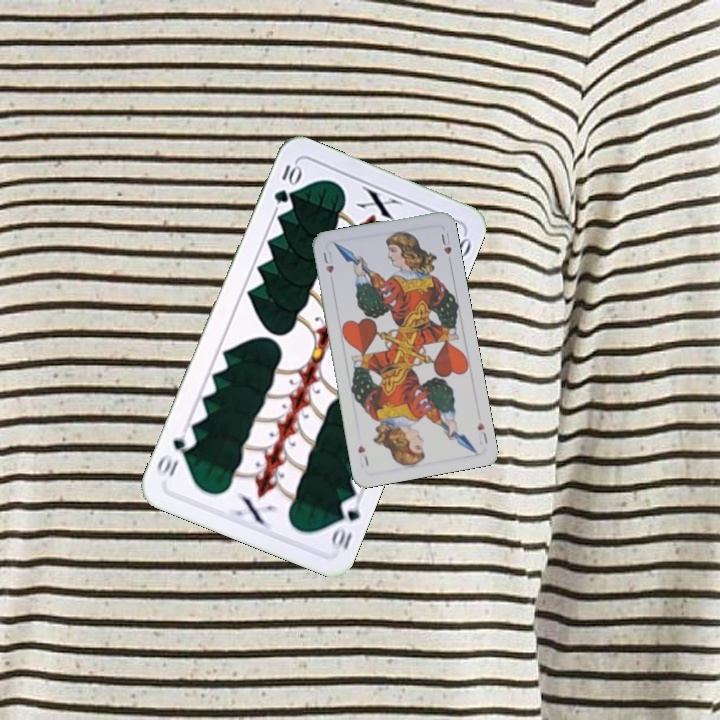G10: (326, 493, 364, 553), (269, 159, 303, 206)
HU: (319, 247, 336, 276), (473, 418, 490, 446)
